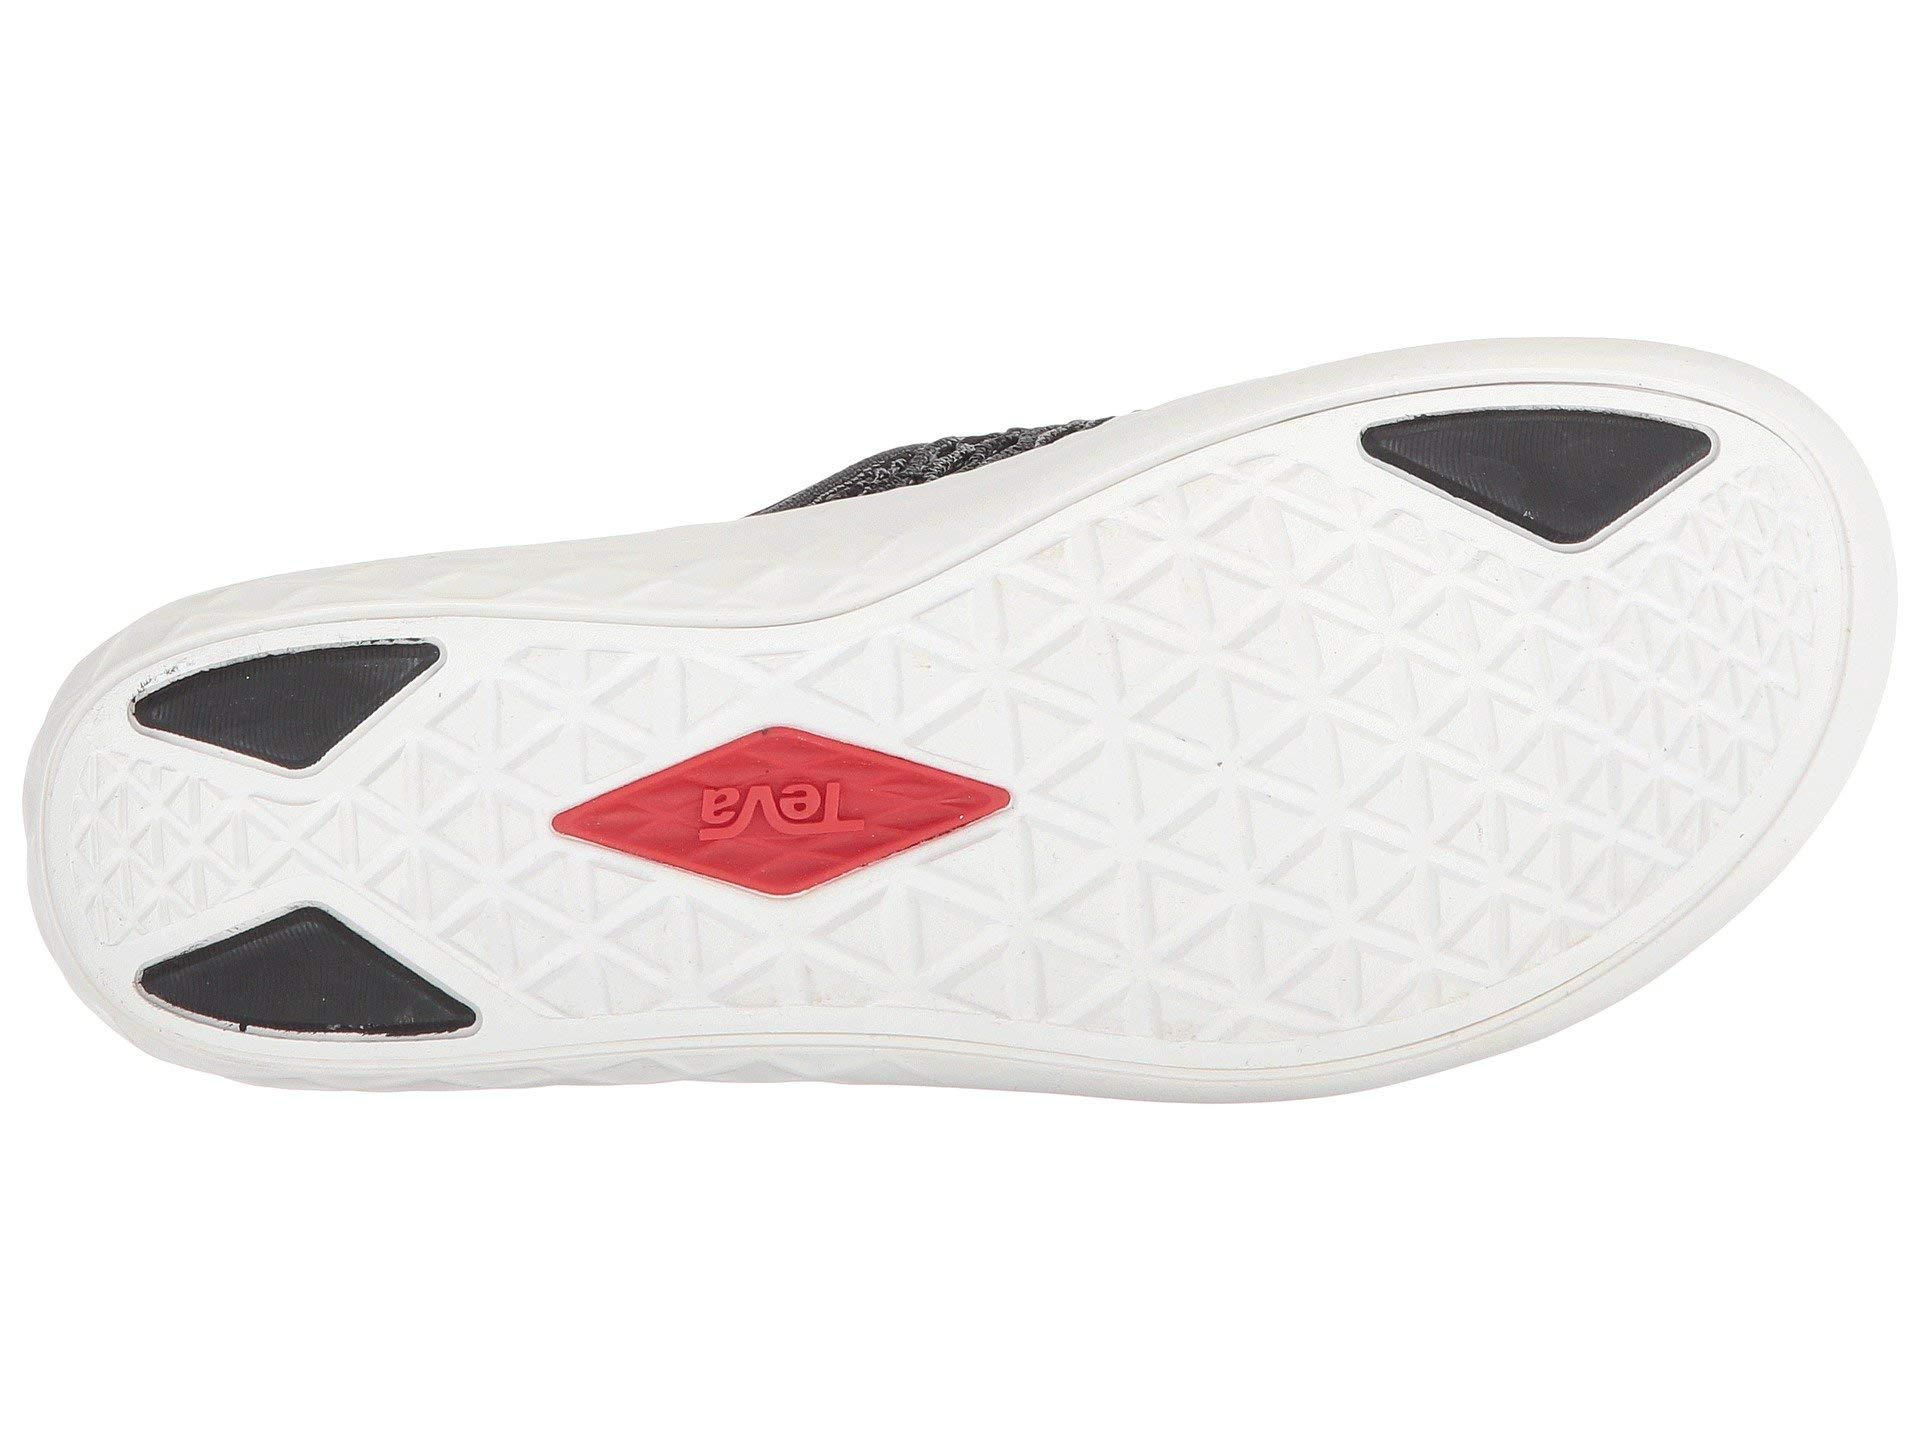line: (534, 700, 1023, 944), (147, 787, 496, 1063)
quad: (1027, 554, 1575, 970), (534, 700, 1023, 944), (147, 787, 496, 1063)
text: (534, 700, 1023, 944)
triangle: (1027, 554, 1575, 970), (534, 700, 1023, 944), (147, 787, 496, 1063)
